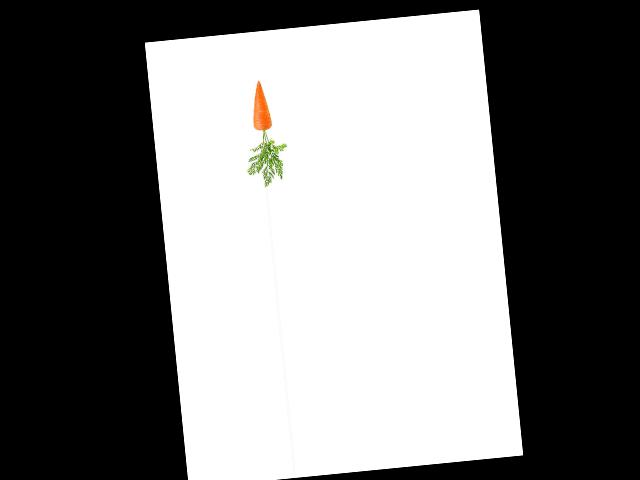carrot: (244, 78, 278, 133)
